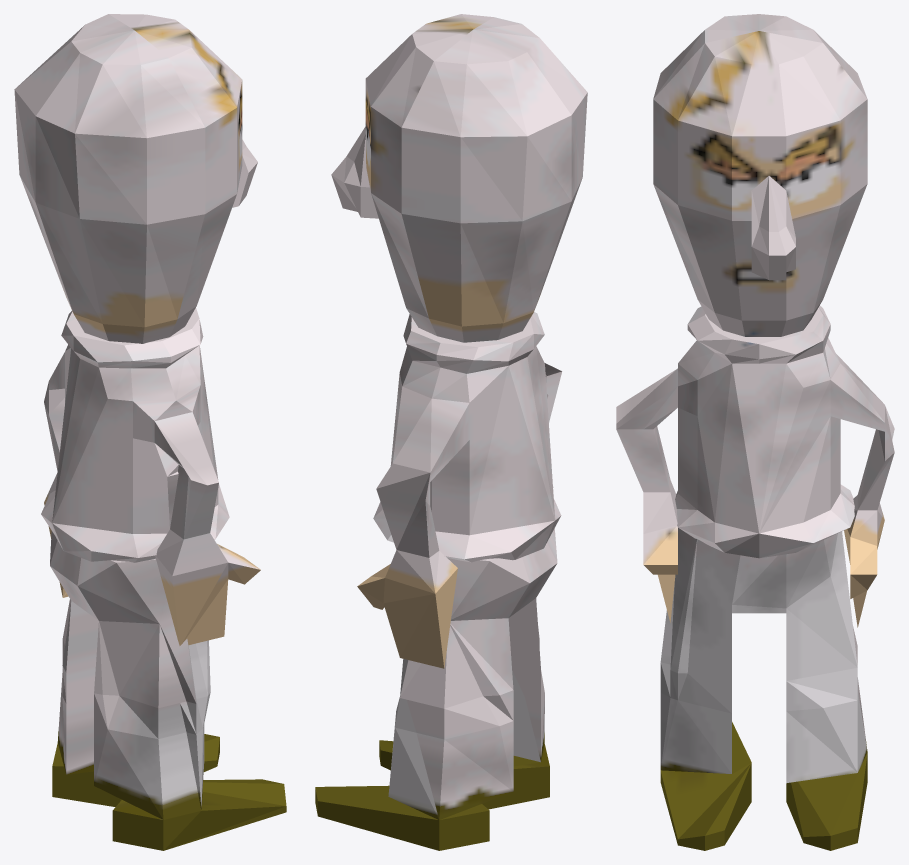
The model's file is PipSid.glb.
The picture shows the model from 3 angles, left to right: view 1: azimuth 30°, elevation 25°; view 2: azimuth 150°, elevation 25°; view 3: azimuth 270°, elevation 25°; orthographic projection. The views are drawn at different scales.
Visible parts, largest first — view 1: PipSid; view 2: PipSid; view 3: PipSid.
Part boxes in pixels (left/top/right/bottom): PipSid: left=14, top=14, right=286, bottom=850; PipSid: left=315, top=14, right=587, bottom=850; PipSid: left=616, top=14, right=894, bottom=850.
Bounding box in the file's own units: 34.92 × 116 × 37.84.
Materials: 1 (1 with a texture image).
